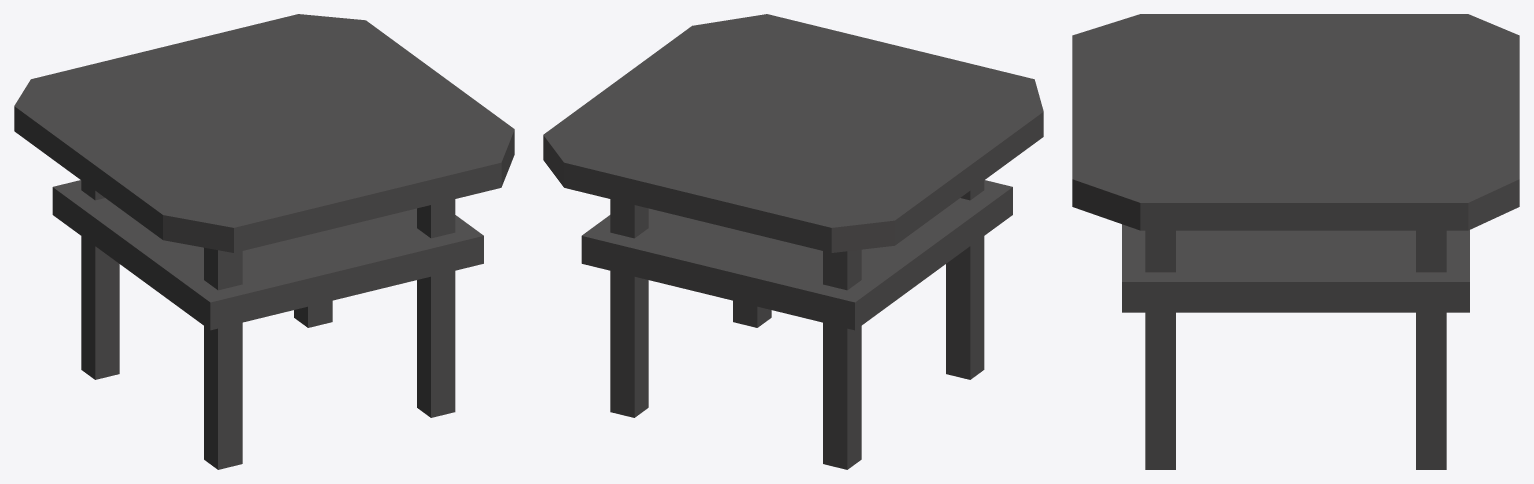
Rendered from Prop_CoffeeTable_02.glb.
3 renders of one model, left to right at view 1: azimuth 30°, elevation 25°; view 2: azimuth 150°, elevation 25°; view 3: azimuth 270°, elevation 25°, orthographic. The views are drawn at different scales.
Parts seen in each view (by area): view 1: SM_Prop_CoffeeTable_02; view 2: SM_Prop_CoffeeTable_02; view 3: SM_Prop_CoffeeTable_02.
Boxes of the visible parts, left/top/right/bottom form: SM_Prop_CoffeeTable_02: left=14, top=14, right=514, bottom=469; SM_Prop_CoffeeTable_02: left=543, top=14, right=1043, bottom=469; SM_Prop_CoffeeTable_02: left=1072, top=14, right=1519, bottom=469.
Bounding box in the file's own units: 0.6946 × 0.5105 × 0.6946.
Materials: 1 (1 with a texture image).
